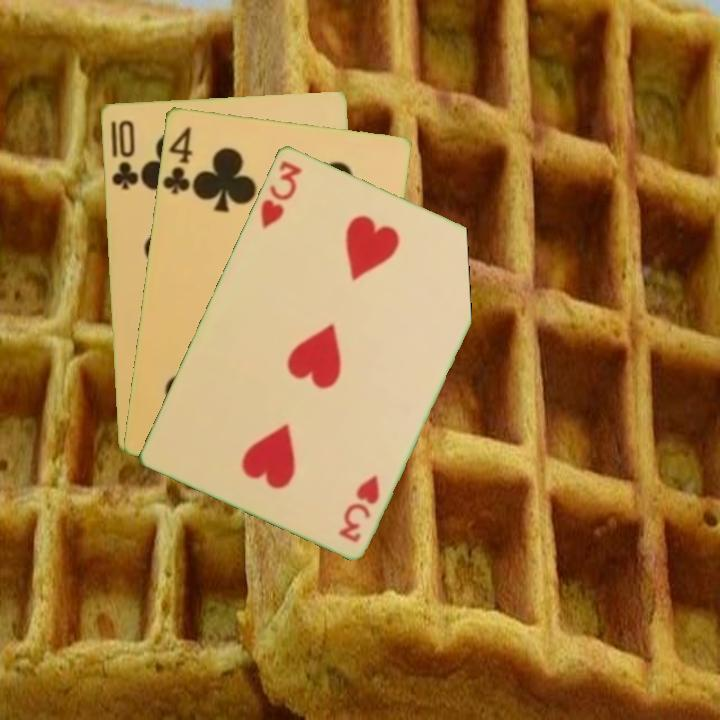10c: (108, 116, 141, 192)
3h: (256, 156, 305, 232), (334, 470, 383, 545)
4c: (159, 122, 195, 197)
